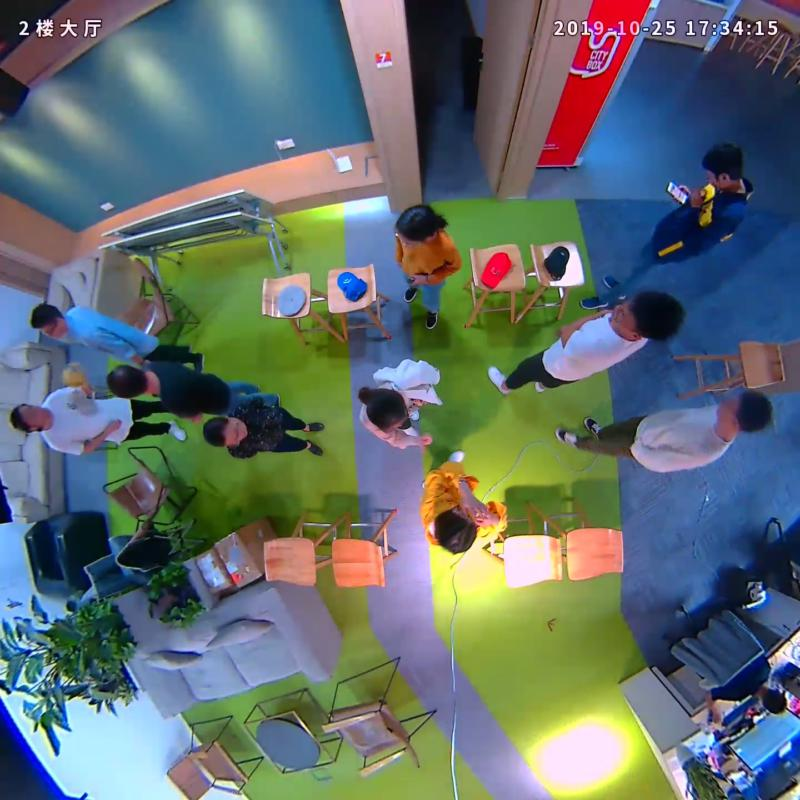head: (611, 289, 684, 341), (717, 389, 772, 434), (396, 204, 439, 250), (365, 389, 409, 433), (702, 142, 743, 187), (437, 511, 479, 554), (107, 363, 148, 397), (203, 416, 248, 446), (30, 303, 66, 338), (9, 403, 50, 433)
